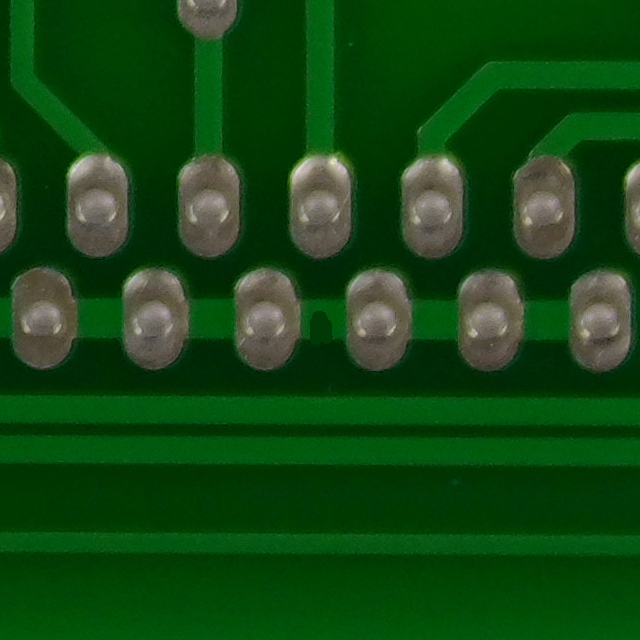mouse_bite: (287, 280, 353, 360)
